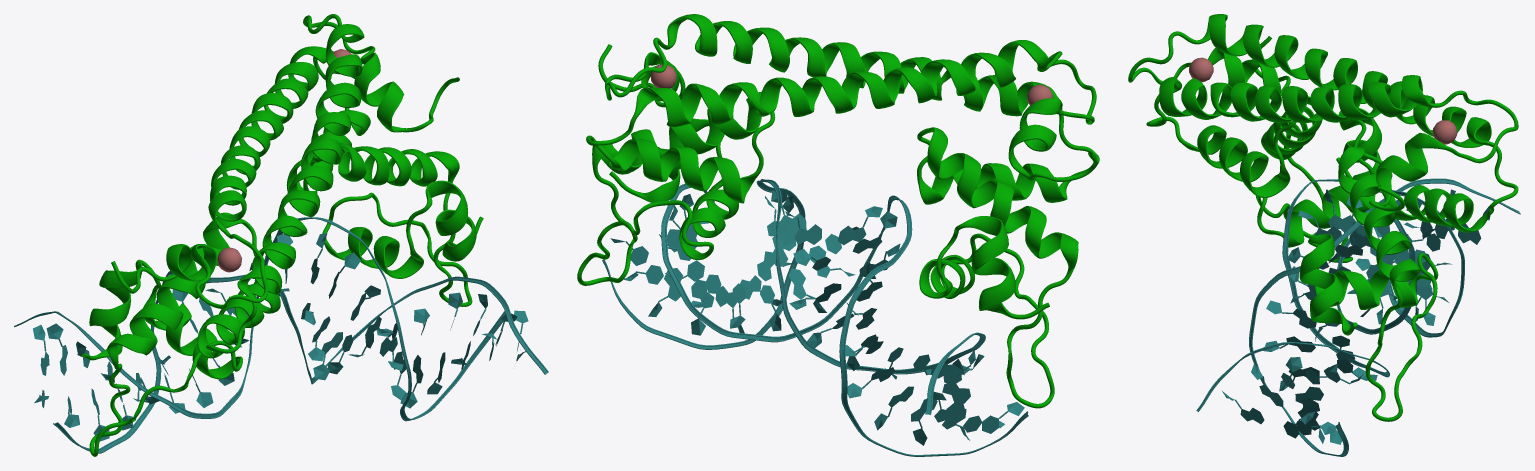
The model's file is A_CueR_Exp.fbx.
3 renders of one model, left to right at view 1: azimuth 30°, elevation 25°; view 2: azimuth 150°, elevation 25°; view 3: azimuth 270°, elevation 25°, orthographic. The views are drawn at different scales.
Parts seen in each view (by area): view 1: A_CueR_Exp; view 2: A_CueR_Exp; view 3: A_CueR_Exp.
Boxes of the visible parts, box(x1,y1,x2,y2) form: A_CueR_Exp: box(14, 14, 548, 456); A_CueR_Exp: box(577, 14, 1099, 456); A_CueR_Exp: box(1128, 14, 1520, 456).
Size of the model in its own units: 1.39 by 1.09 by 1.08.
